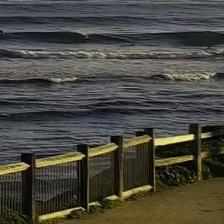surfer: (0, 29, 4, 35), (0, 29, 4, 35)
